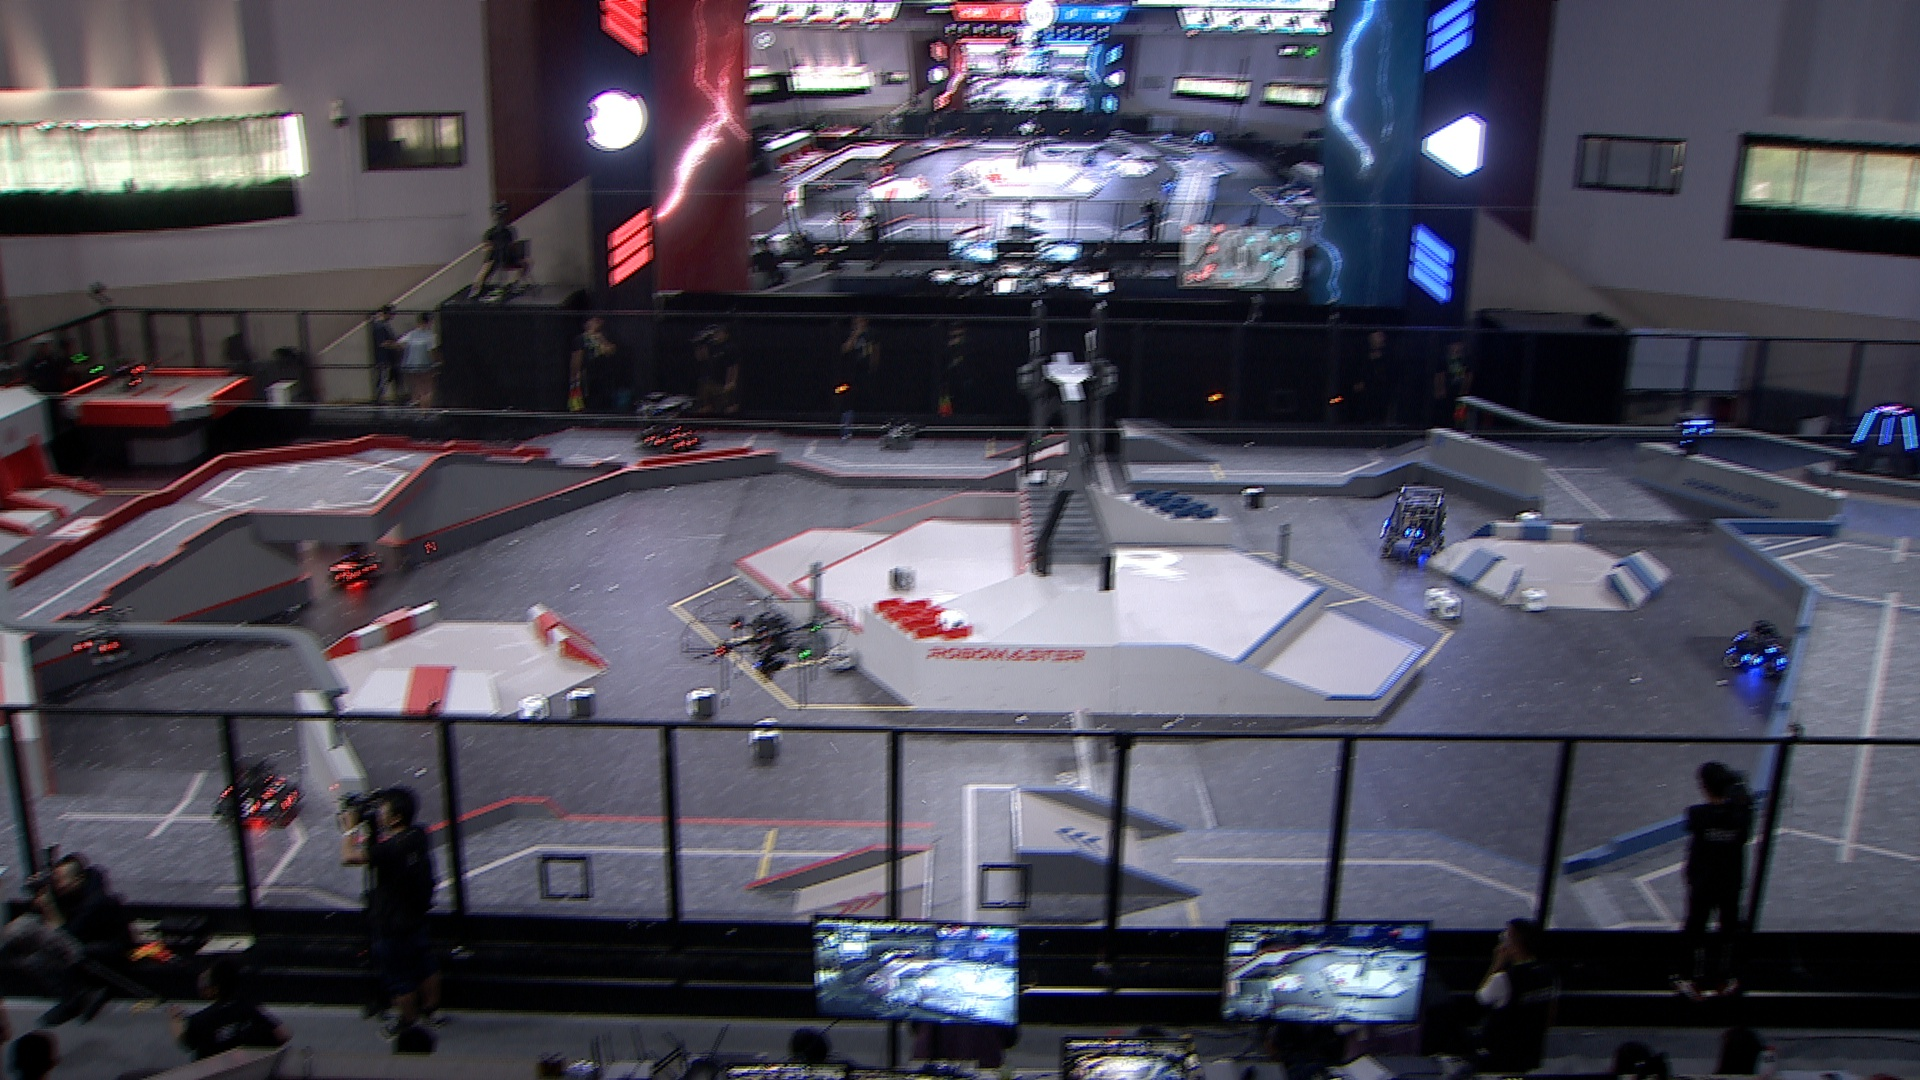armor: (1851, 409, 1876, 444), (71, 638, 120, 655), (1899, 414, 1920, 452), (1878, 415, 1898, 448), (239, 796, 264, 818), (1683, 425, 1713, 439), (262, 778, 284, 796), (1741, 651, 1766, 666), (334, 568, 357, 583), (281, 793, 302, 808), (645, 434, 666, 448), (675, 438, 699, 450), (1403, 526, 1422, 541), (669, 431, 692, 440)
base: (1832, 404, 1920, 487)
car: (218, 754, 306, 825), (1381, 483, 1449, 564), (638, 390, 707, 455), (1724, 622, 1792, 675), (328, 538, 386, 593)
ignore: (1874, 404, 1909, 418), (1275, 183, 1295, 204), (1079, 149, 1098, 167), (1159, 178, 1182, 194), (816, 177, 835, 195), (1193, 131, 1215, 146), (839, 206, 858, 222)
watcher: (71, 603, 138, 669), (1675, 411, 1717, 456)
